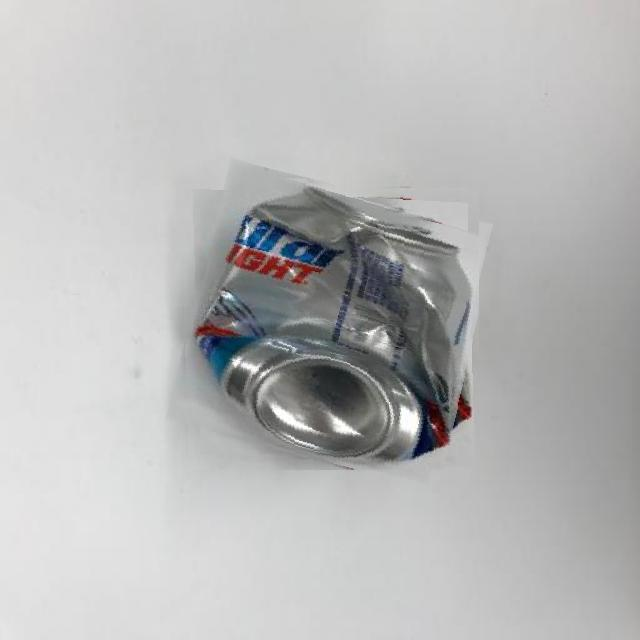recyclable: (180, 172, 479, 470)
